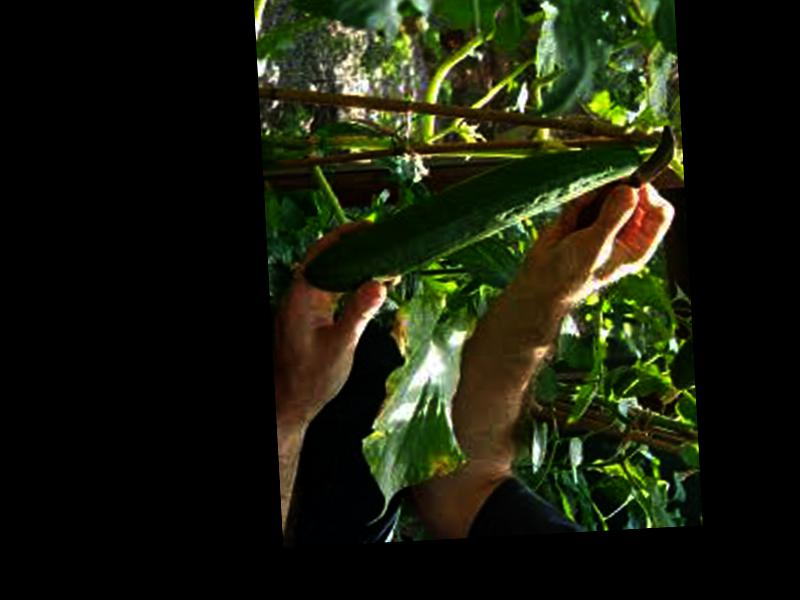Cucumber: (299, 143, 645, 292)
